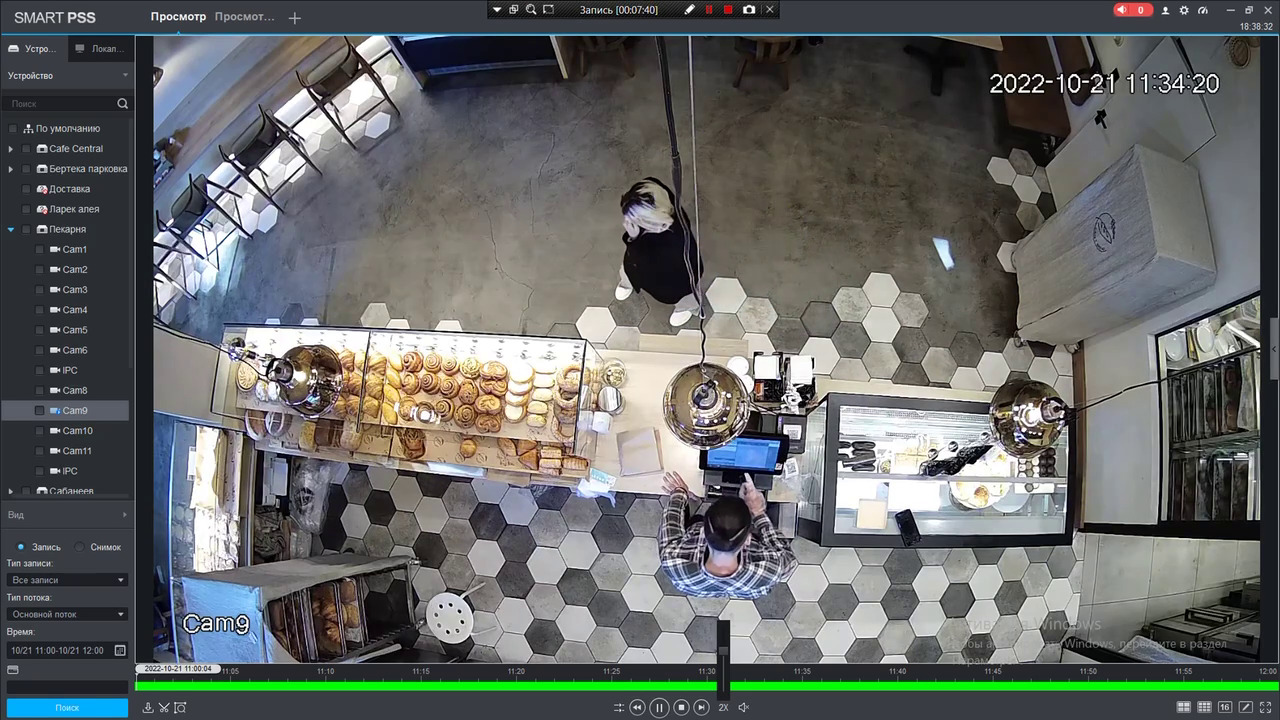barcounter: (199, 329, 1084, 553)
pack: (611, 425, 664, 474)
person: (605, 168, 714, 341)
